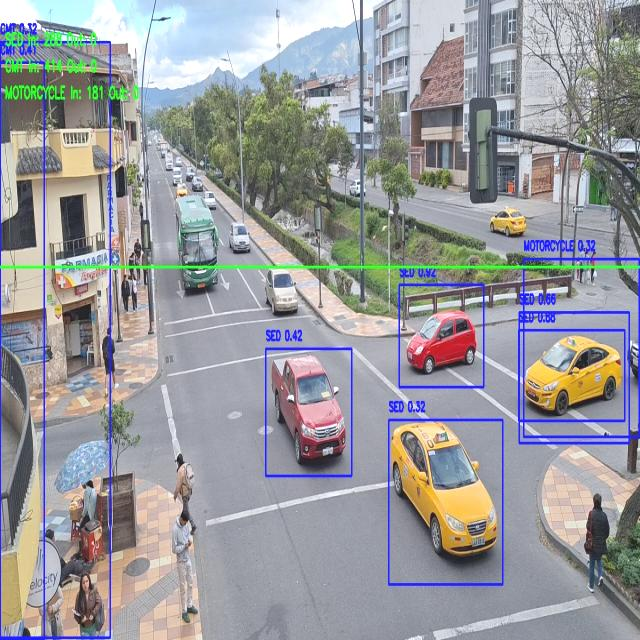BUS: (181, 218, 219, 288)
CMT: (276, 360, 346, 460)
SED: (393, 427, 494, 556), (526, 339, 620, 409), (407, 314, 474, 372), (267, 270, 298, 312), (490, 209, 524, 234), (232, 226, 250, 253)
